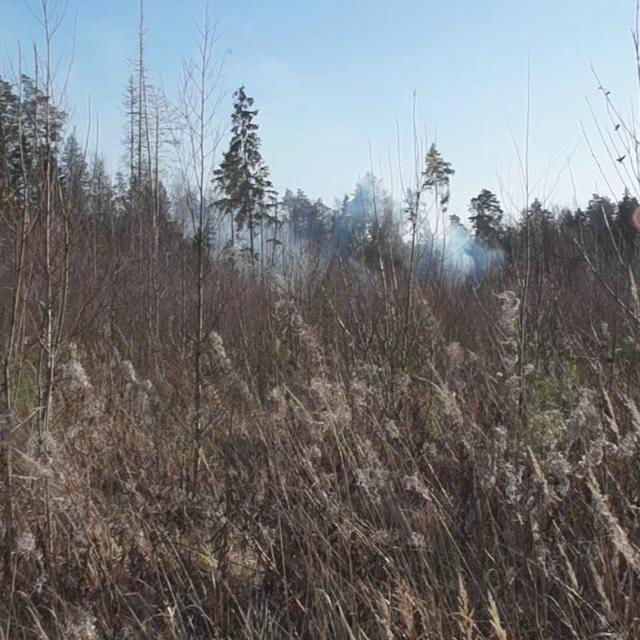Smoke: (177, 152, 511, 296)
